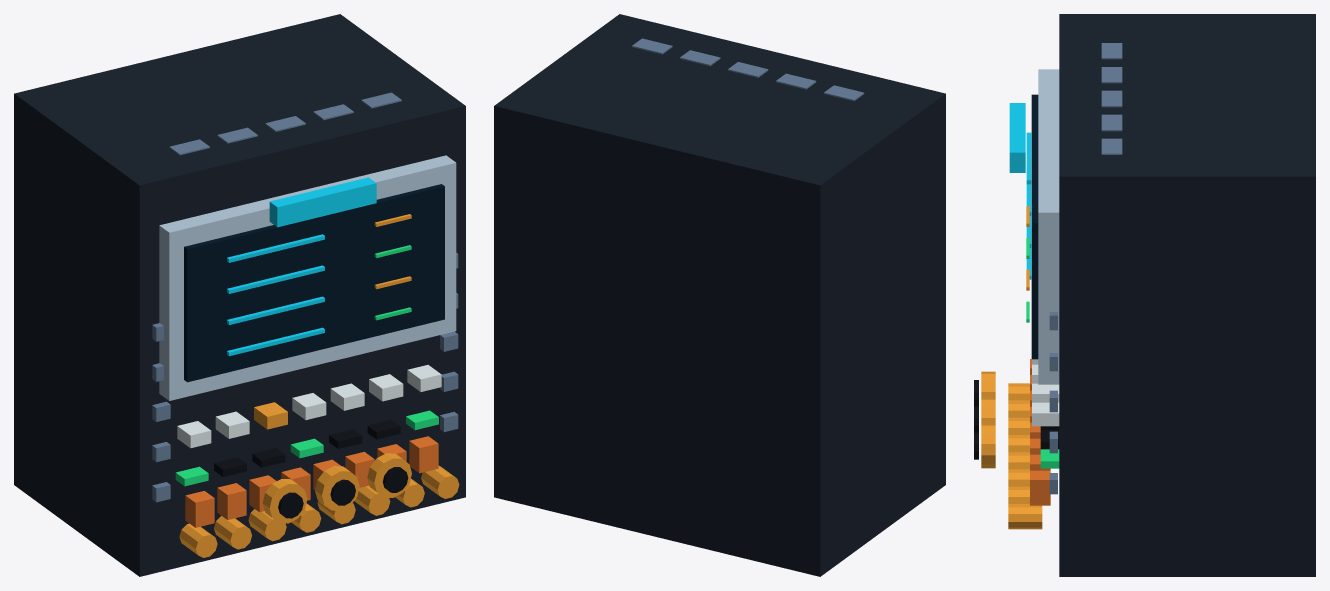
File: 35_L89_DistributedDetectorNetworkGateway.fbx
The picture shows the model from 3 angles, left to right: view 1: azimuth 30°, elevation 25°; view 2: azimuth 150°, elevation 25°; view 3: azimuth 270°, elevation 25°; orthographic projection. The views are drawn at different scales.
Parts seen in each view (by area): view 1: L87_DistributedDetectorNetworkGateway_Part_0000, L87_DistributedDetectorNetworkGateway_Part_0002, L87_DistributedDetectorNetworkGateway_Part_0001, L87_DistributedDetectorNetworkGateway_Part_0004, L87_DistributedDetectorNetworkGateway_Part_0009, L87_DistributedDetectorNetworkGateway_Part_0008, L87_DistributedDetectorNetworkGateway_Part_0006, L87_DistributedDetectorNetworkGateway_Part_0010, L87_DistributedDetectorNetworkGateway_Part_0003, L87_DistributedDetectorNetworkGateway_Part_0007, L87_DistributedDetectorNetworkGateway_Part_0005, L87_DistributedDetectorNetworkGateway_Part_0011 (+2 smaller); view 2: L87_DistributedDetectorNetworkGateway_Part_0000, L87_DistributedDetectorNetworkGateway_Part_0008; view 3: L87_DistributedDetectorNetworkGateway_Part_0000, L87_DistributedDetectorNetworkGateway_Part_0001, L87_DistributedDetectorNetworkGateway_Part_0004, L87_DistributedDetectorNetworkGateway_Part_0008, L87_DistributedDetectorNetworkGateway_Part_0002, L87_DistributedDetectorNetworkGateway_Part_0009, L87_DistributedDetectorNetworkGateway_Part_0006, L87_DistributedDetectorNetworkGateway_Part_0010, L87_DistributedDetectorNetworkGateway_Part_0003, L87_DistributedDetectorNetworkGateway_Part_0015, L87_DistributedDetectorNetworkGateway_Part_0005.
Boxes of the visible parts, <box> form: L87_DistributedDetectorNetworkGateway_Part_0000: <box>14,14,465,576</box>; L87_DistributedDetectorNetworkGateway_Part_0002: <box>184,184,444,382</box>; L87_DistributedDetectorNetworkGateway_Part_0001: <box>159,155,456,400</box>; L87_DistributedDetectorNetworkGateway_Part_0004: <box>179,214,459,557</box>; L87_DistributedDetectorNetworkGateway_Part_0009: <box>185,436,438,527</box>; L87_DistributedDetectorNetworkGateway_Part_0008: <box>152,92,458,502</box>; L87_DistributedDetectorNetworkGateway_Part_0006: <box>177,365,441,448</box>; L87_DistributedDetectorNetworkGateway_Part_0010: <box>269,177,376,227</box>; L87_DistributedDetectorNetworkGateway_Part_0003: <box>227,234,324,356</box>; L87_DistributedDetectorNetworkGateway_Part_0007: <box>214,420,400,476</box>; L87_DistributedDetectorNetworkGateway_Part_0005: <box>175,245,438,486</box>; L87_DistributedDetectorNetworkGateway_Part_0011: <box>262,479,307,523</box>; L87_DistributedDetectorNetworkGateway_Part_0000: <box>494,14,945,576</box>; L87_DistributedDetectorNetworkGateway_Part_0008: <box>632,38,864,101</box>; L87_DistributedDetectorNetworkGateway_Part_0000: <box>1059,14,1315,576</box>; L87_DistributedDetectorNetworkGateway_Part_0001: <box>1038,69,1059,384</box>; L87_DistributedDetectorNetworkGateway_Part_0004: <box>1008,206,1042,529</box>; L87_DistributedDetectorNetworkGateway_Part_0008: <box>1049,43,1122,494</box>; L87_DistributedDetectorNetworkGateway_Part_0002: <box>1031,94,1038,359</box>; L87_DistributedDetectorNetworkGateway_Part_0009: <box>1030,359,1050,505</box>; L87_DistributedDetectorNetworkGateway_Part_0006: <box>1032,359,1059,426</box>; L87_DistributedDetectorNetworkGateway_Part_0010: <box>1009,103,1025,172</box>; L87_DistributedDetectorNetworkGateway_Part_0003: <box>1026,132,1031,279</box>; L87_DistributedDetectorNetworkGateway_Part_0015: <box>981,423,995,468</box>; L87_DistributedDetectorNetworkGateway_Part_0005: <box>1026,238,1059,468</box>.
Bounding box in the file's own units: 112 × 129 × 99.6.
